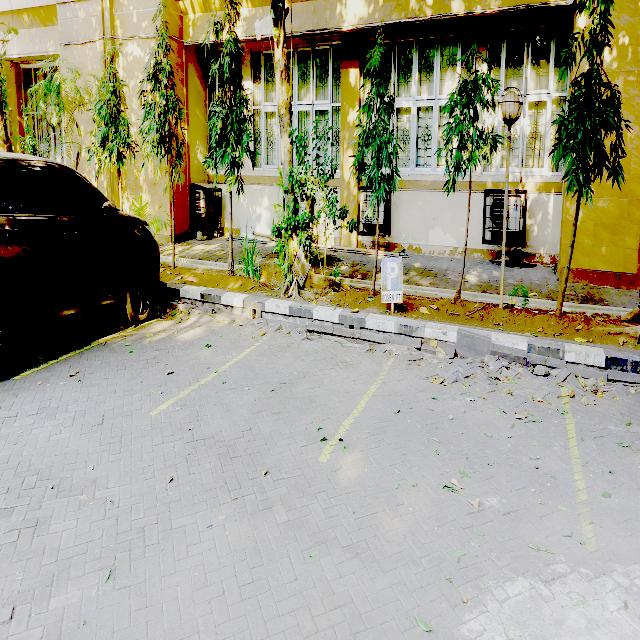empty: (324, 344, 591, 543), (154, 321, 402, 461), (16, 303, 288, 413)
